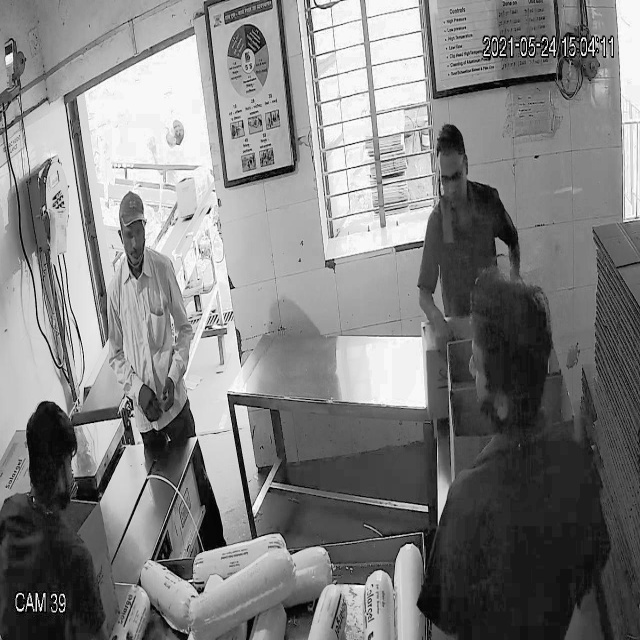Gafas: (436, 159, 470, 194)
Sin_gafas: (116, 220, 149, 248)
